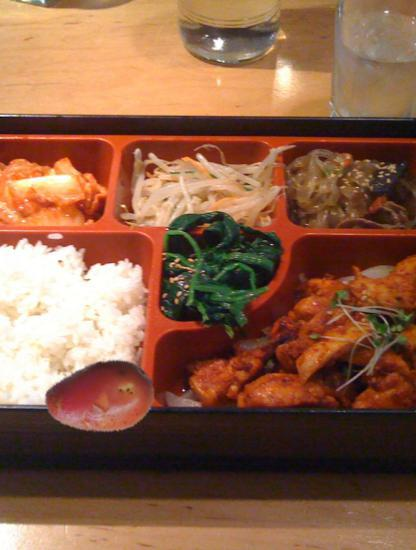Potato: (46, 344, 157, 455)
